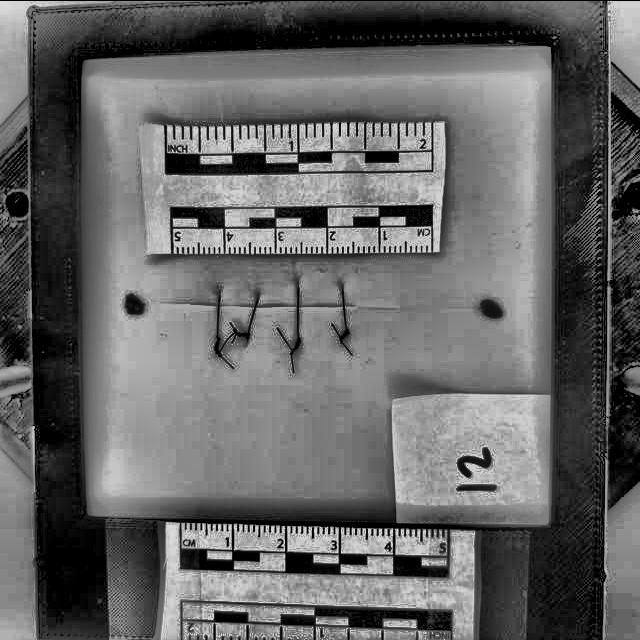incision_line: (137, 304, 487, 306)
scale_marker: (327, 227, 380, 251)
suture_d: (256, 294, 298, 302), (218, 296, 258, 302), (298, 288, 342, 292)
suture_l: (245, 307, 259, 332), (295, 306, 301, 338), (216, 306, 222, 336), (343, 305, 347, 329)
suture_r: (294, 286, 300, 304), (340, 288, 346, 305), (252, 297, 261, 307), (218, 296, 222, 306)
